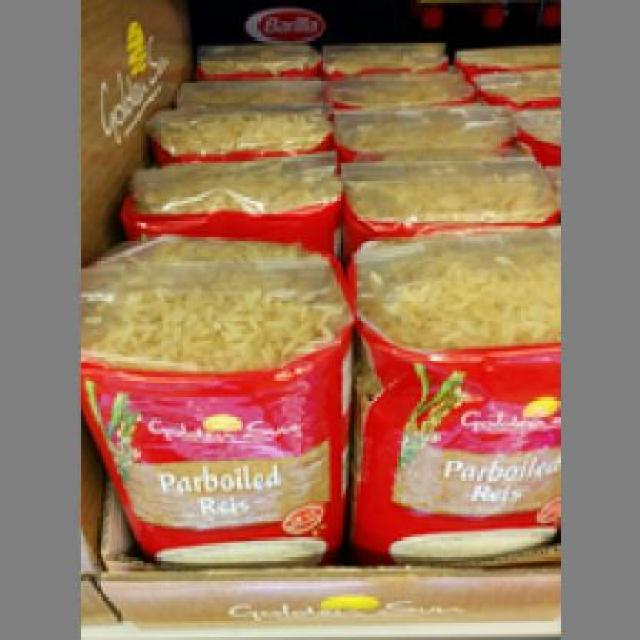Rice: (79, 237, 352, 560), (346, 226, 560, 560)
